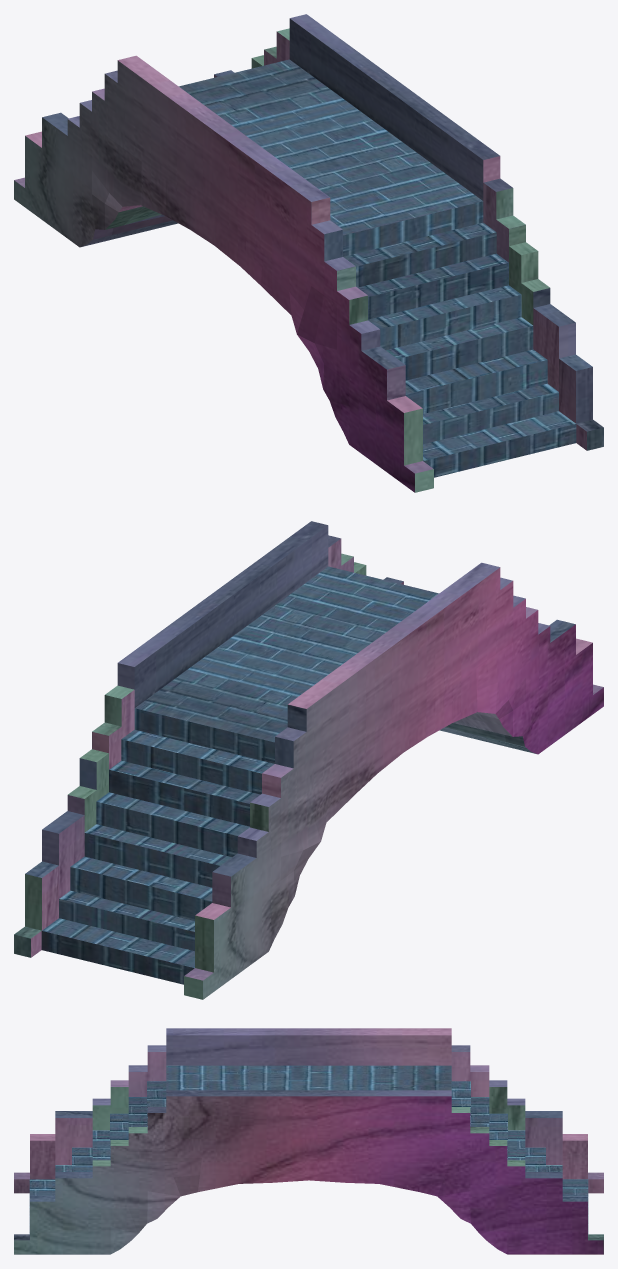
The model's file is Ponte 2.fbx.
3 views of the same model, one above another, from view 1: azimuth 30°, elevation 25°; view 2: azimuth 150°, elevation 25°; view 3: azimuth 270°, elevation 25° (orthographic). The views are drawn at different scales.
Parts seen in each view (by area): view 1: Cube; view 2: Cube; view 3: Cube.
Boxes of the visible parts, box(x1,y1,x2,y2) form: Cube: box(14, 14, 603, 492); Cube: box(14, 521, 603, 999); Cube: box(14, 1028, 603, 1254).
Bounding box in the file's own units: 467 × 489 × 1654.
